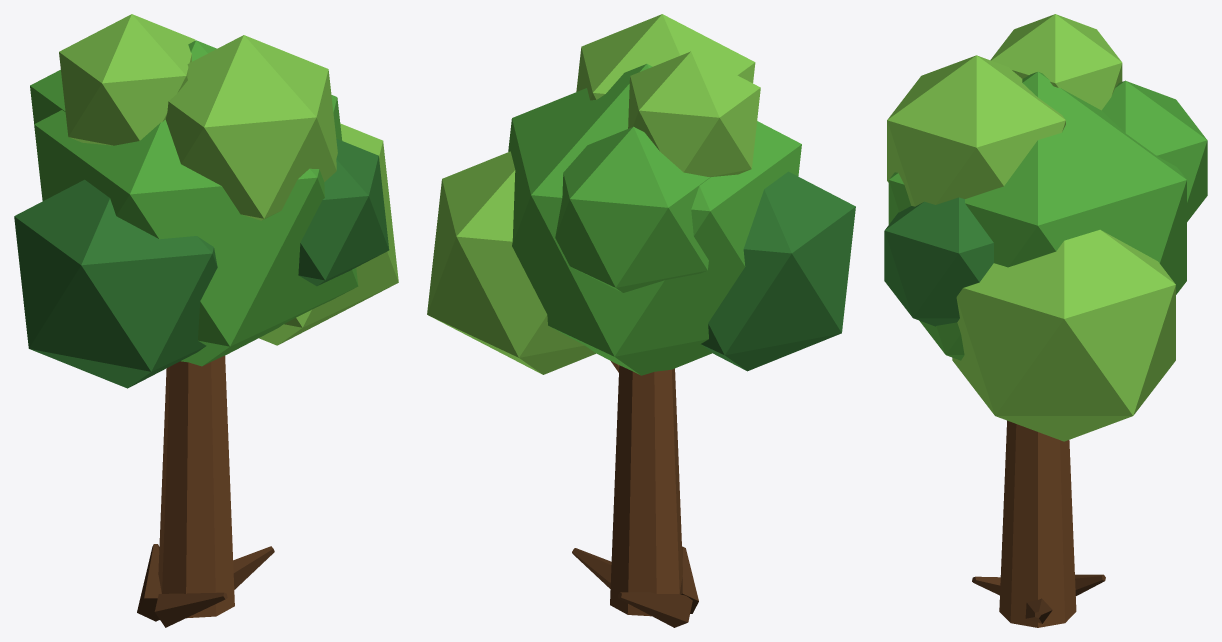
File: tree_round.glb
The picture shows the model from 3 angles, left to right: view 1: azimuth 30°, elevation 25°; view 2: azimuth 150°, elevation 25°; view 3: azimuth 270°, elevation 25°; orthographic projection. The views are drawn at different scales.
Parts seen in each view (by area): view 1: TreeRoundFoliage, TreeRoundTrunk; view 2: TreeRoundFoliage, TreeRoundTrunk; view 3: TreeRoundFoliage, TreeRoundTrunk.
Boxes of the visible parts, bbox=[...] form: TreeRoundFoliage: bbox=[14, 14, 398, 388]; TreeRoundTrunk: bbox=[137, 355, 274, 627]; TreeRoundFoliage: bbox=[427, 14, 855, 375]; TreeRoundTrunk: bbox=[572, 361, 698, 627]; TreeRoundFoliage: bbox=[884, 14, 1207, 441]; TreeRoundTrunk: bbox=[972, 420, 1105, 627].
Size of what is drawn, in the model's own units: 2.45 by 3.69 by 1.84.
